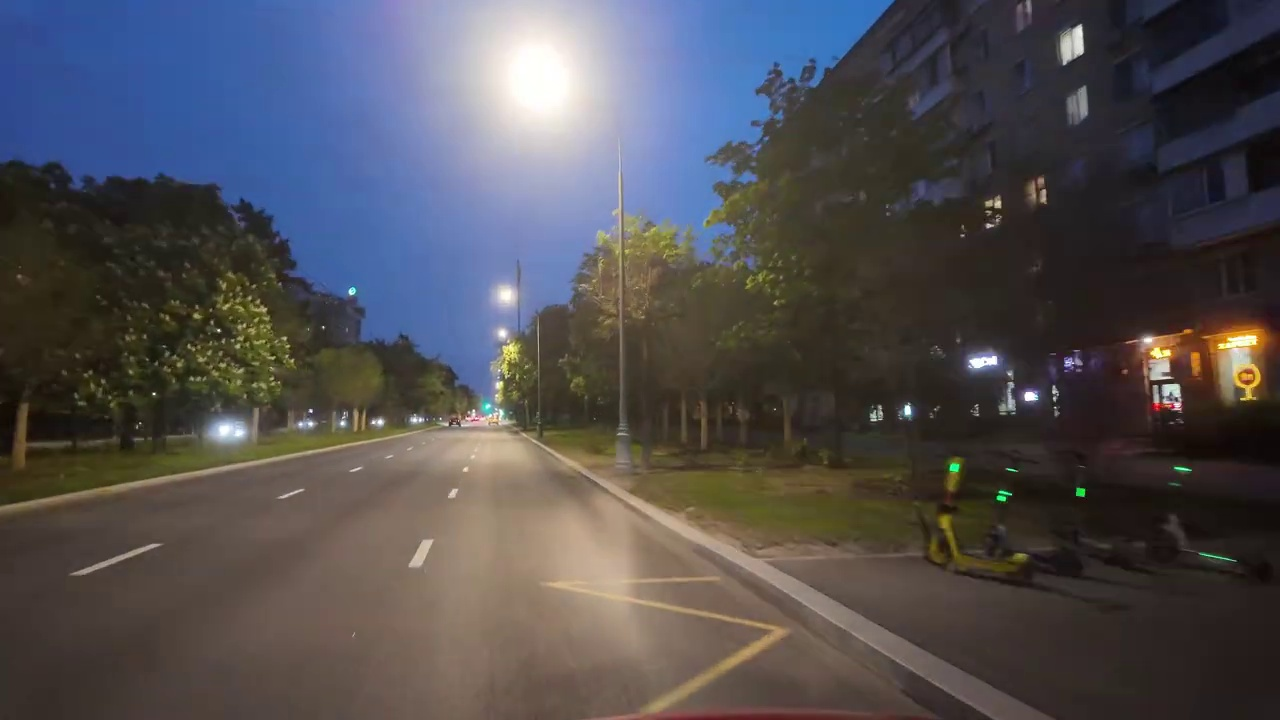acesa: (499, 41, 573, 116), (493, 282, 519, 308)
